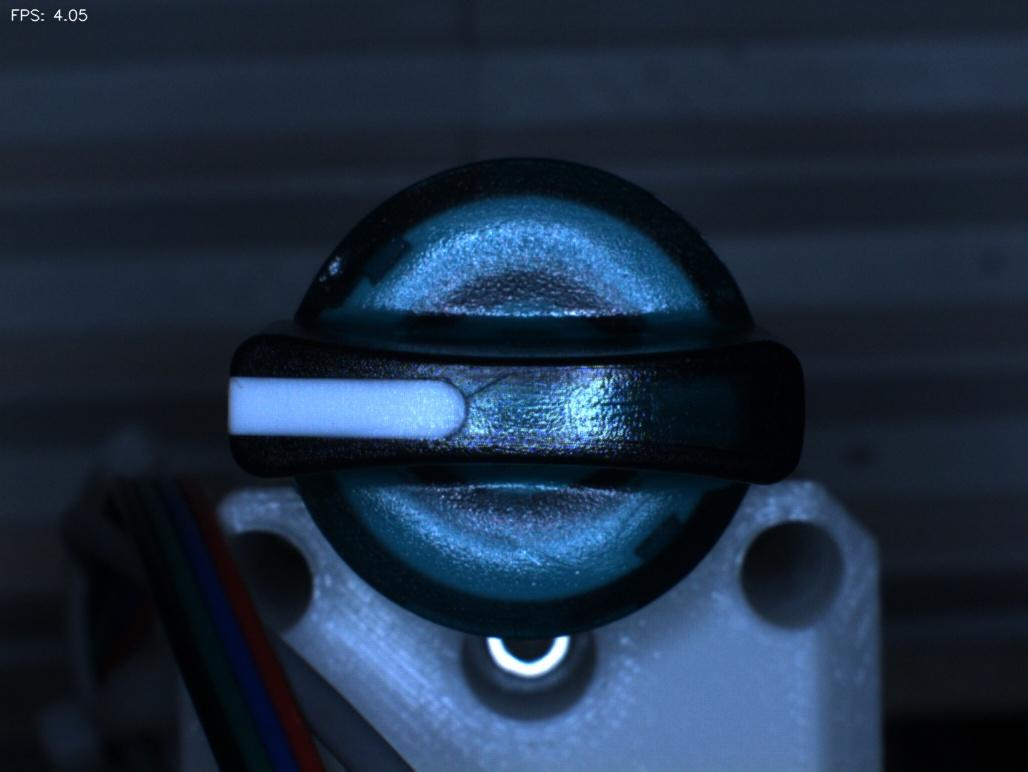Choc: (302, 237, 380, 300)
